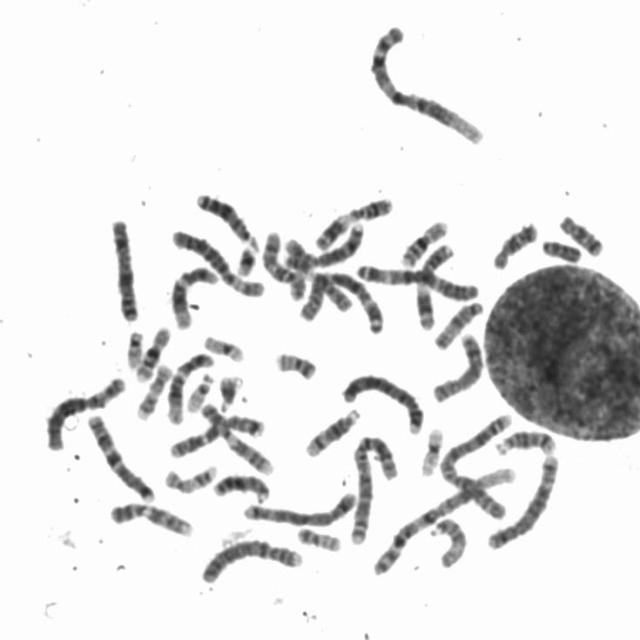A1: (366, 458, 520, 578), (363, 17, 489, 146)
A2: (435, 406, 517, 520), (343, 427, 401, 547)
A3: (294, 263, 387, 337), (350, 254, 482, 302)
B4: (336, 365, 427, 436), (195, 531, 306, 585)
B5: (482, 446, 562, 551), (238, 484, 360, 528)
C10: (278, 231, 355, 314), (255, 222, 310, 300)
C11: (307, 188, 397, 252), (410, 236, 458, 330)
C12: (160, 344, 216, 426), (166, 258, 220, 330)
C6: (165, 220, 268, 298), (39, 368, 129, 453)
C7: (81, 407, 158, 504), (164, 406, 267, 460)
C8: (279, 216, 366, 272), (427, 326, 486, 404)
C9: (195, 395, 276, 477), (103, 493, 196, 539)
D13: (191, 183, 261, 250), (206, 466, 272, 504)
D14: (300, 401, 364, 458), (489, 421, 560, 457)
D15: (428, 292, 487, 352), (424, 508, 470, 570)
E16: (394, 212, 451, 268), (130, 318, 173, 383)
E17: (130, 357, 175, 421), (158, 456, 220, 496)
E18: (486, 213, 540, 271), (553, 206, 607, 258)
F19: (197, 326, 247, 364), (414, 420, 446, 478)
F20: (268, 343, 320, 381), (291, 519, 344, 553)
G21: (212, 366, 245, 413), (229, 236, 259, 278)
G22: (180, 365, 216, 413), (120, 323, 146, 370)
X: (104, 210, 142, 324)
Y: (536, 231, 584, 264)
